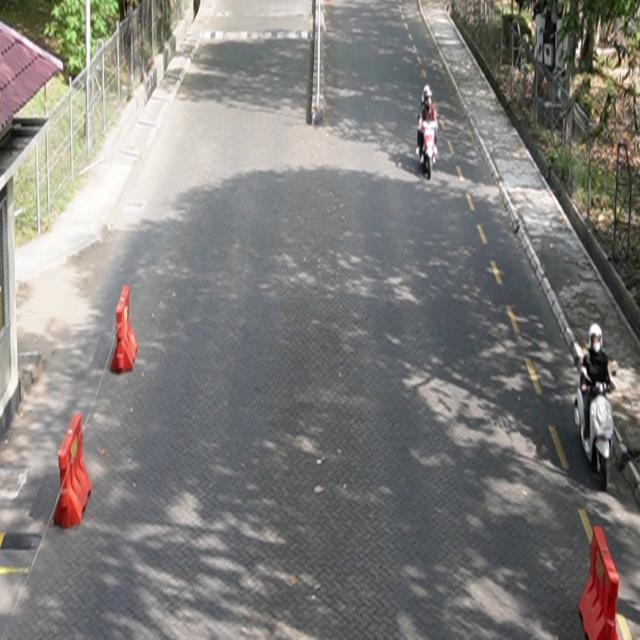car: (574, 344, 618, 491)
